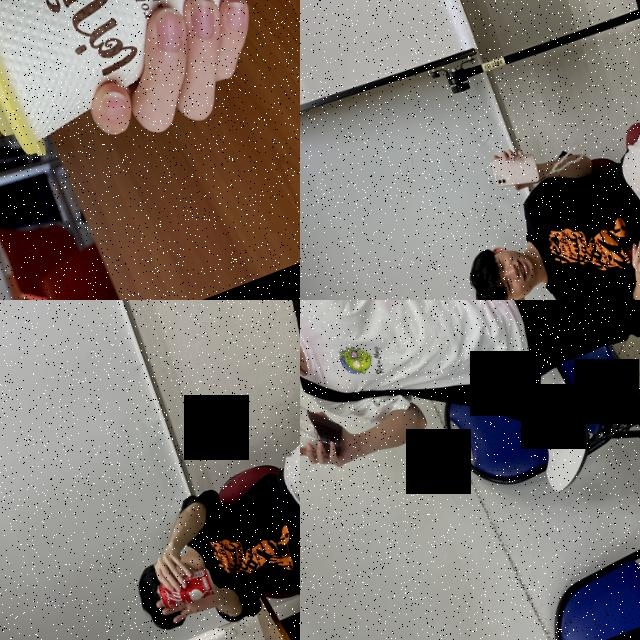can: (154, 564, 219, 612)
cup: (0, 0, 277, 170), (300, 389, 353, 470)
